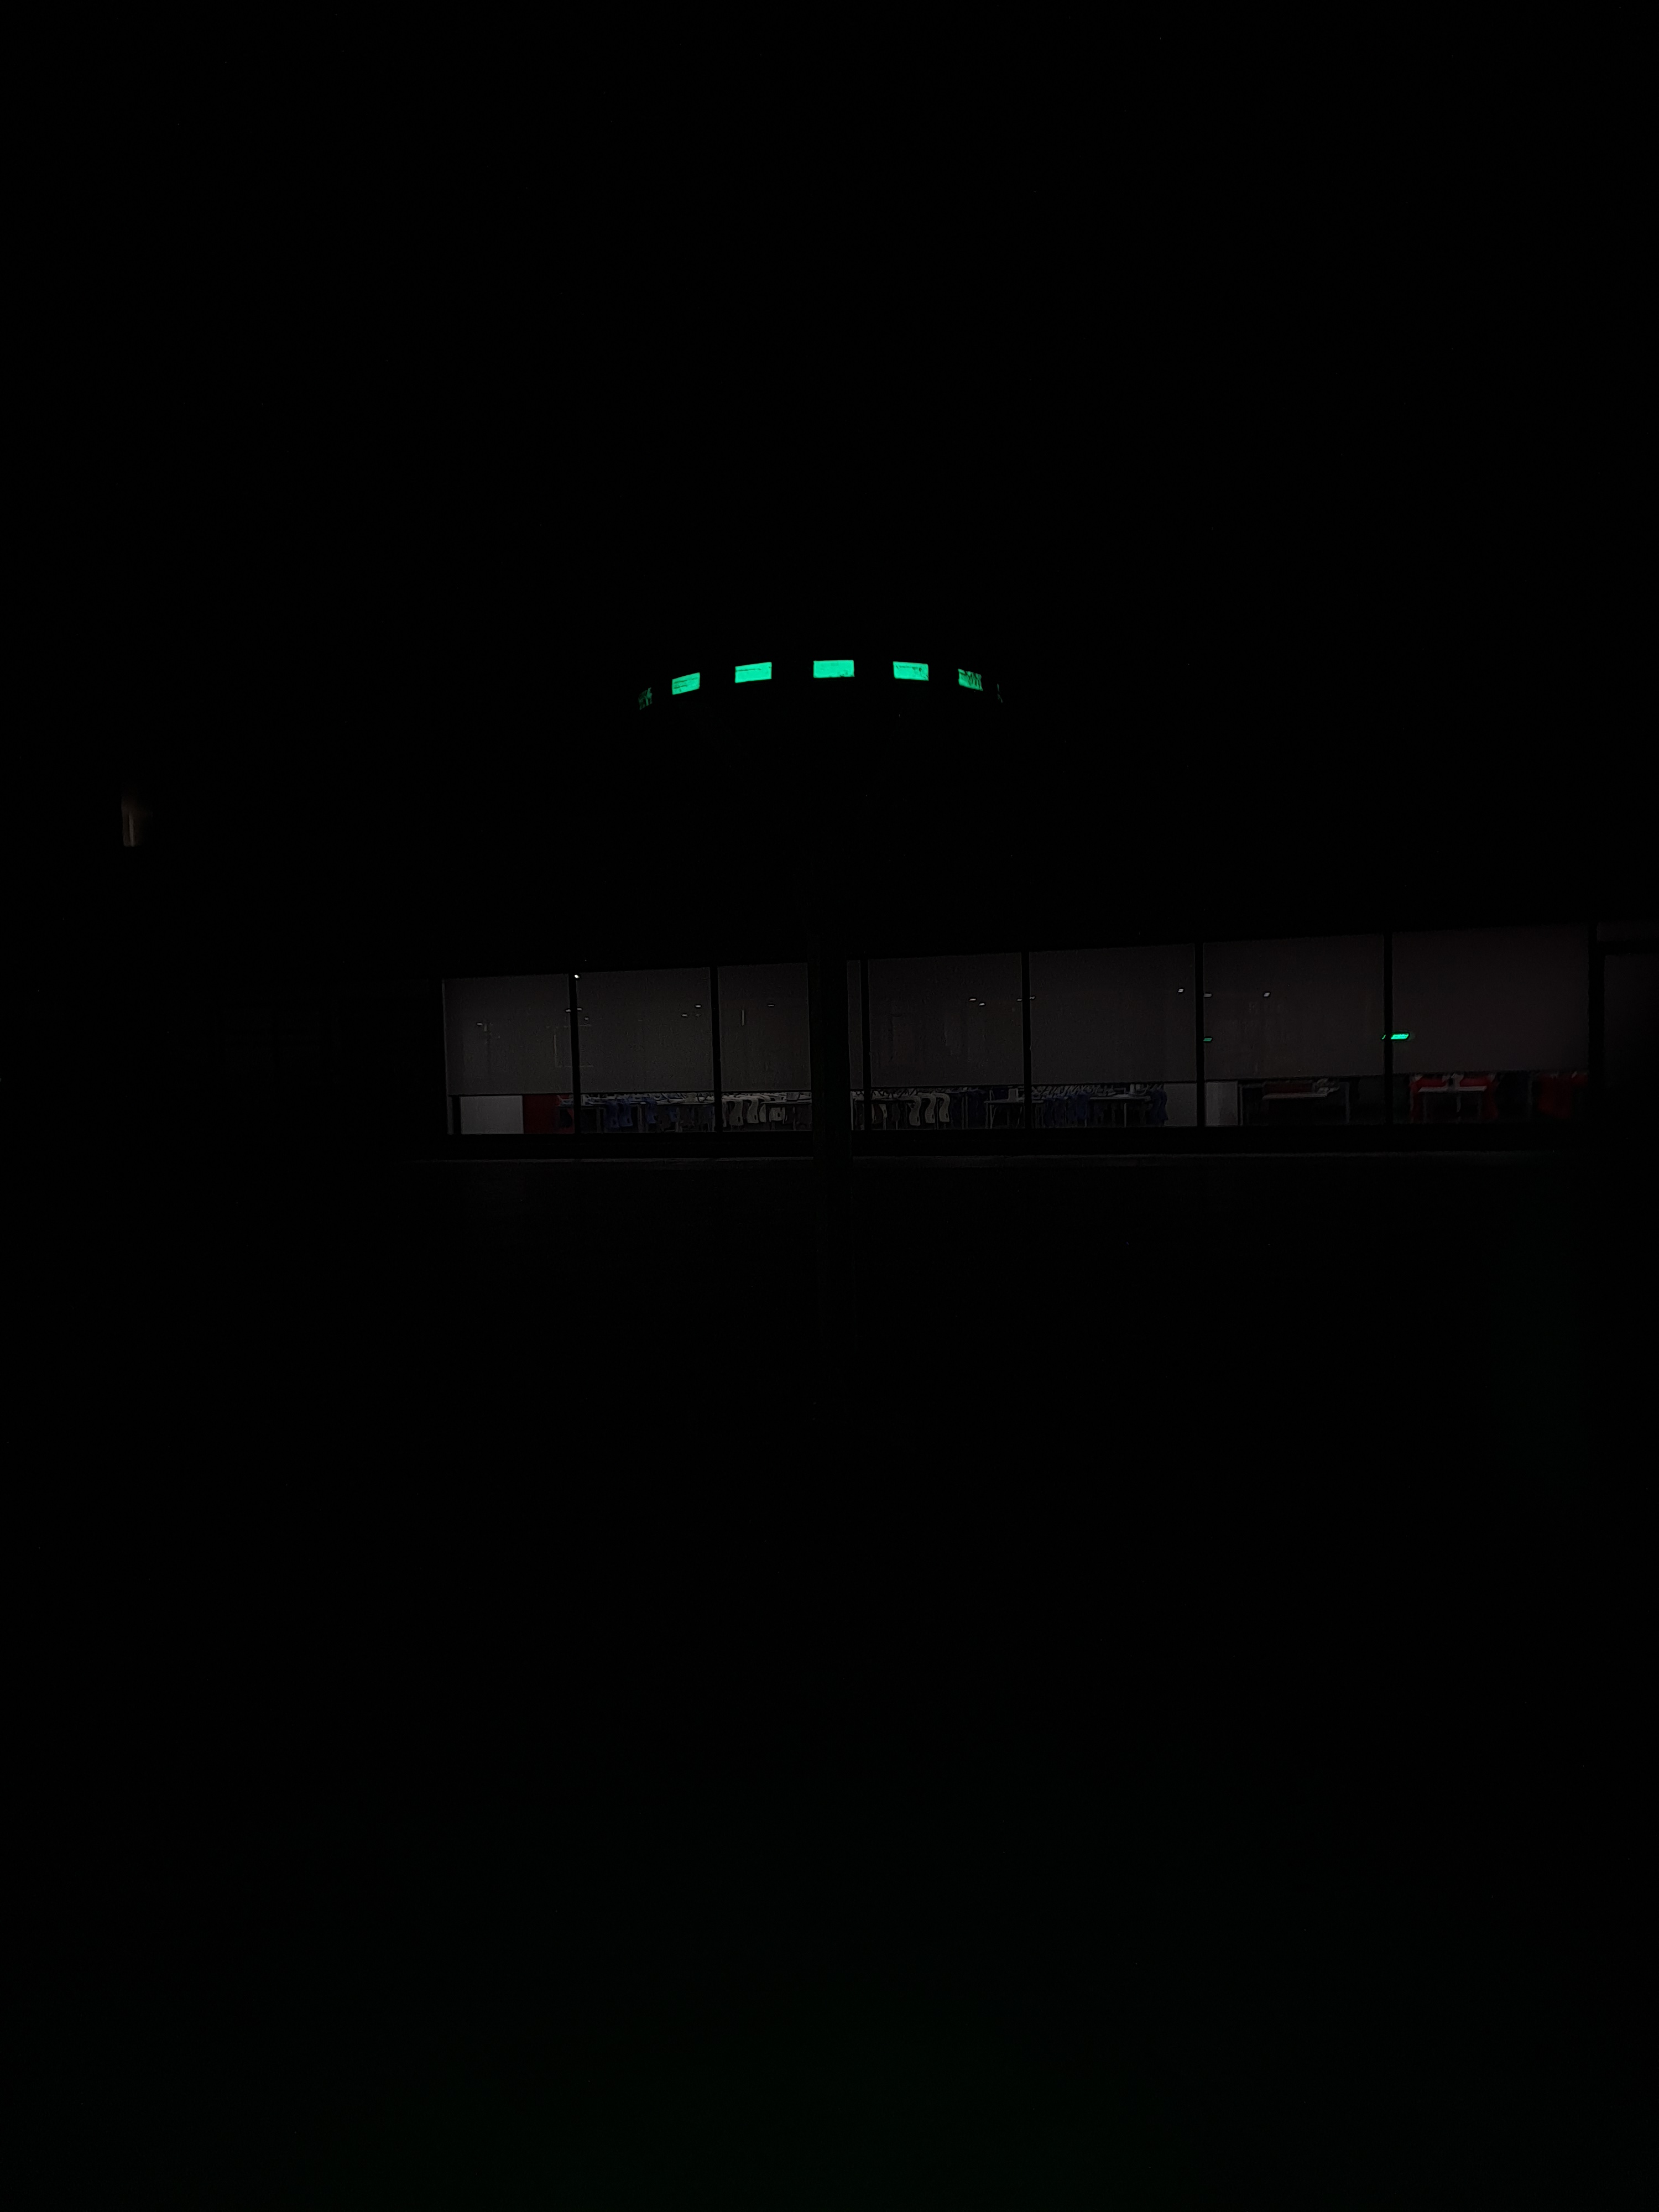hoop: (662, 658, 990, 698)
